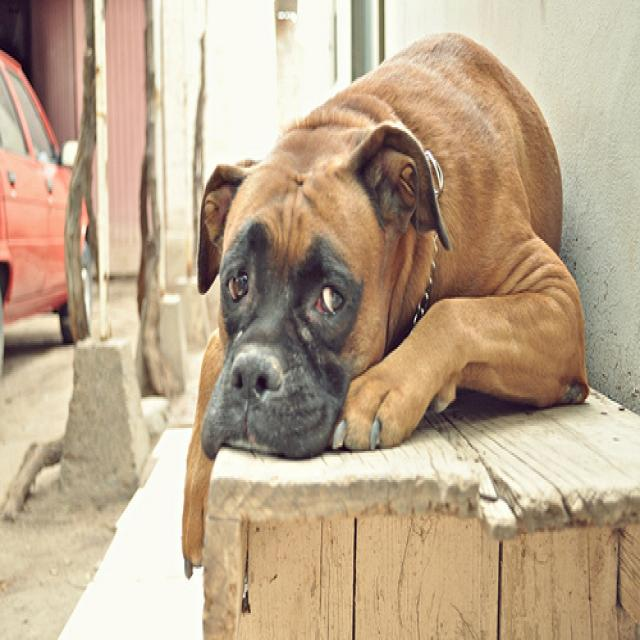dog-boxer: (170, 15, 594, 590)
